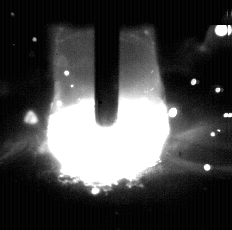arame: (95, 0, 120, 126)
poca: (46, 0, 170, 230)
